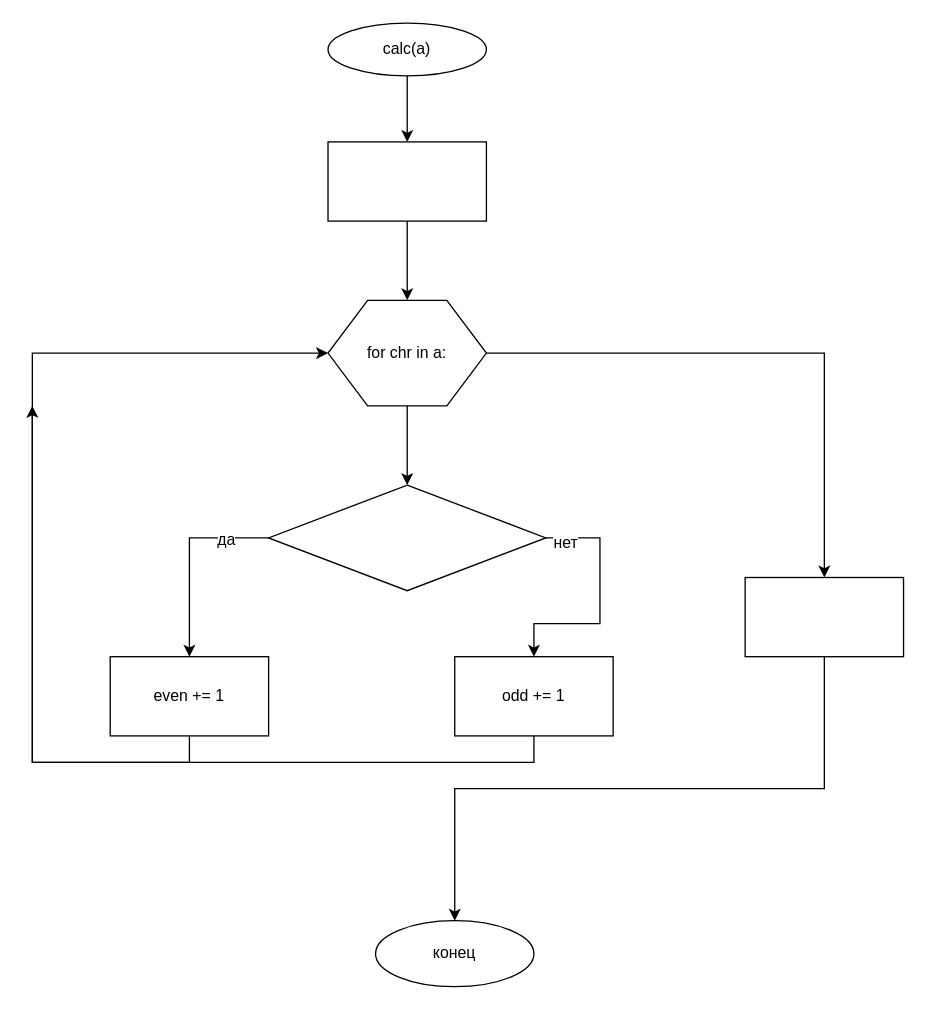
Image size: 927x1010. Some labels were removed from this diagram. Here are the shapes that lost their labels. From the top down, the centre of each, then its label:
[406,181]: even = 0 odd = 0
[406,537]: if int(chr) % 2 == 0
[824,616]: return (odd, even)
